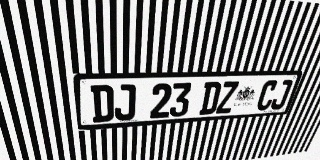2: (150, 83, 172, 118)
3: (169, 82, 192, 117)
C: (255, 80, 279, 111)
D: (90, 85, 114, 123), (199, 82, 222, 115)
J: (114, 84, 136, 121), (269, 80, 294, 110)
Z: (215, 81, 239, 114)
